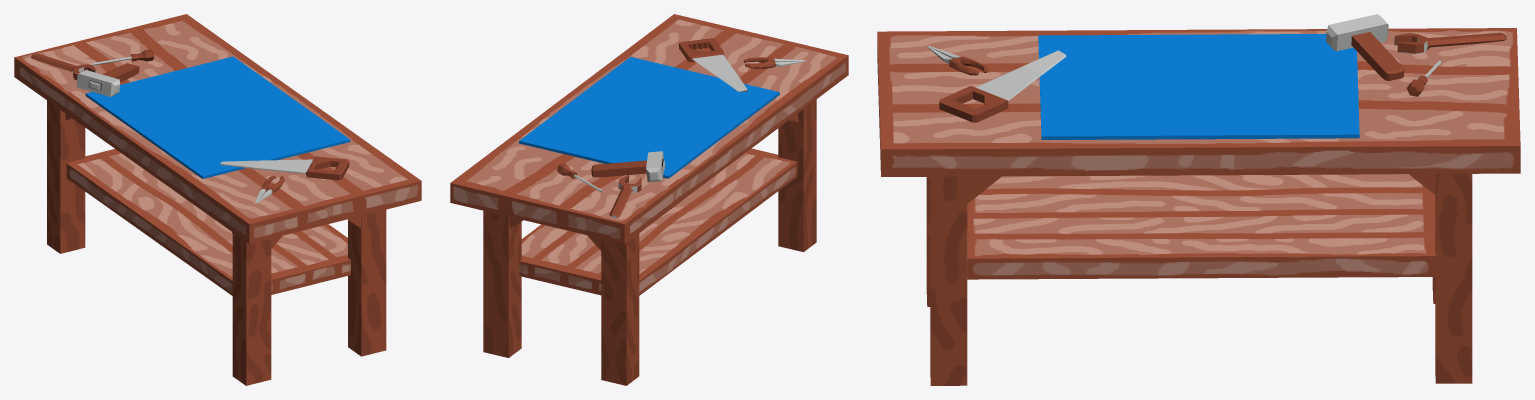
File: buildModeWorkshop.fbx
3 renders of one model, left to right at view 1: azimuth 30°, elevation 25°; view 2: azimuth 150°, elevation 25°; view 3: azimuth 270°, elevation 25°, orthographic. The views are drawn at different scales.
Visible parts, largest first — view 1: Blueprint; view 2: Blueprint; view 3: Blueprint.
Boxes of the visible parts, x1=… form: Blueprint: x1=14, y1=14, x2=421, y2=385; Blueprint: x1=450, y1=14, x2=848, y2=385; Blueprint: x1=877, y1=14, x2=1520, y2=385.
Bounding box in the file's own units: 111 × 116 × 248.
6 materials, 5 textured.
